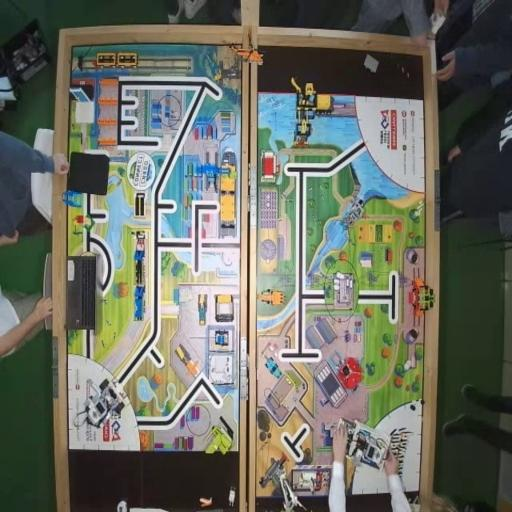lego_robot: (334, 416, 390, 473), (84, 376, 127, 431)
